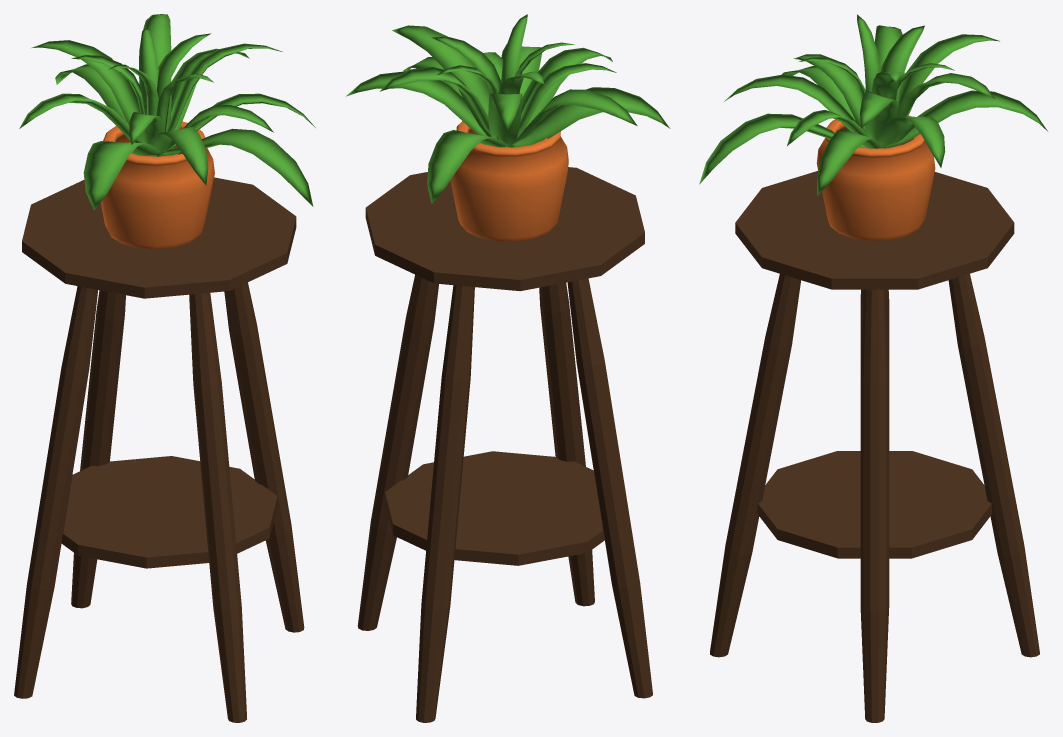
Rendered from Plant.fbx.
The picture shows the model from 3 angles, left to right: view 1: azimuth 30°, elevation 25°; view 2: azimuth 150°, elevation 25°; view 3: azimuth 270°, elevation 25°; orthographic projection. The views are drawn at different scales.
Visible parts, largest first — view 1: Stool, Plant; view 2: Stool, Plant; view 3: Stool, Plant.
Boxes of the visible parts, x1,y1,x2,y2 form: Stool: (14,177,304,722); Plant: (19,14,315,249); Stool: (357,167,652,722); Plant: (346,14,670,241); Stool: (710,171,1039,722); Plant: (699,14,1047,240).
Bounding box in the file's own units: 264 × 538 × 279.
